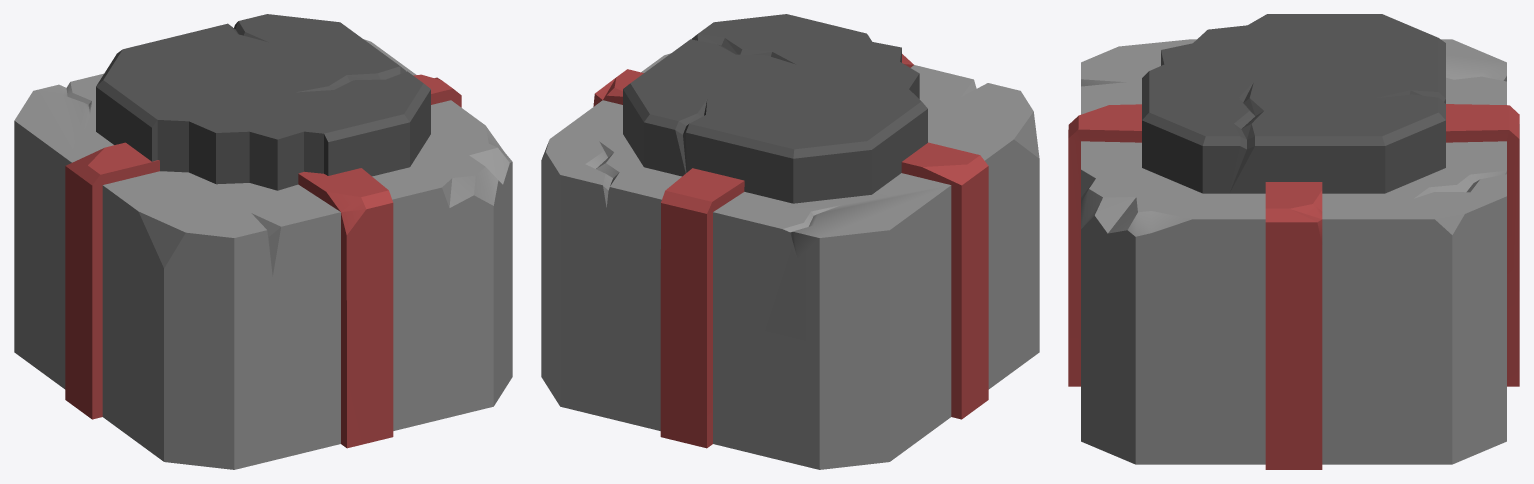
Rendered from Turret_Ruin.FBX.
3 renders of one model, left to right at view 1: azimuth 30°, elevation 25°; view 2: azimuth 150°, elevation 25°; view 3: azimuth 270°, elevation 25°, orthographic. The views are drawn at different scales.
Visible parts, largest first — view 1: Base, Platform; view 2: Base, Platform; view 3: Base, Platform.
Boxes of the visible parts, <box> form: Base: <box>14,39,512,469</box>; Platform: <box>96,14,430,190</box>; Base: <box>541,53,1039,469</box>; Platform: <box>623,14,927,203</box>; Base: <box>1068,39,1519,469</box>; Platform: <box>1142,14,1445,193</box>.
Size of the model in its own units: 74.2 by 54.32 by 74.2.
